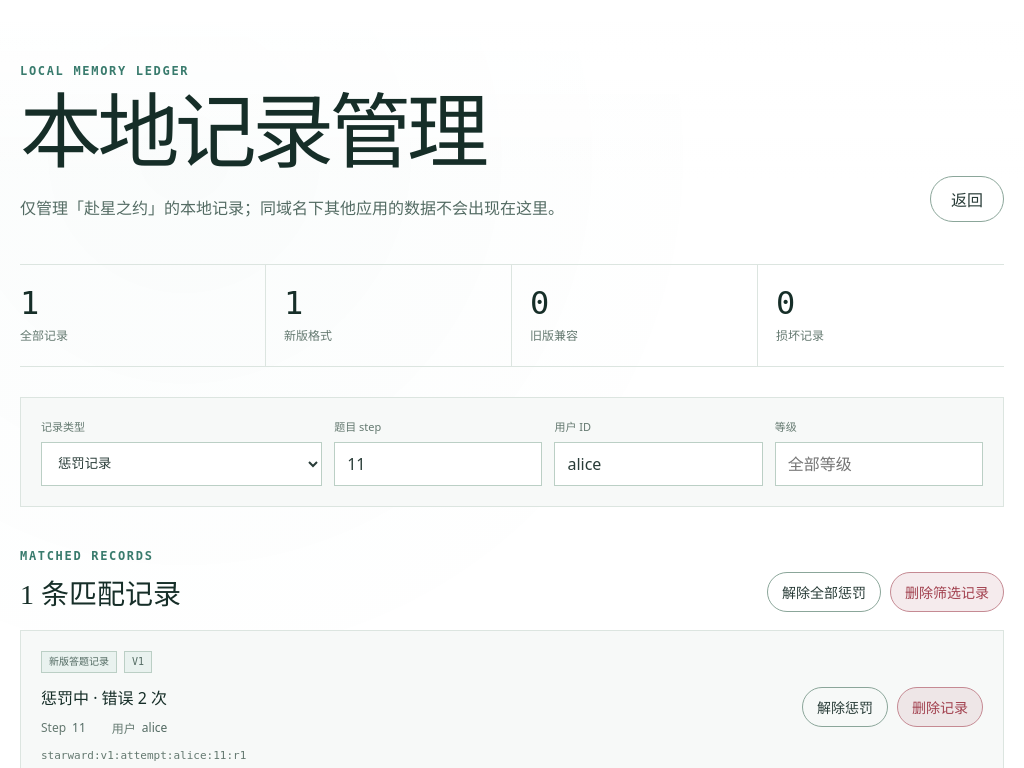
it: ClearCachePage › honors legacy penalty query filters and clears only the penalty
Check: the heading "惩罚中 · 错误 2 次" is shown, box [41, 687, 167, 709]
Click the button "解除惩罚" at (845, 707), box [802, 687, 888, 727]
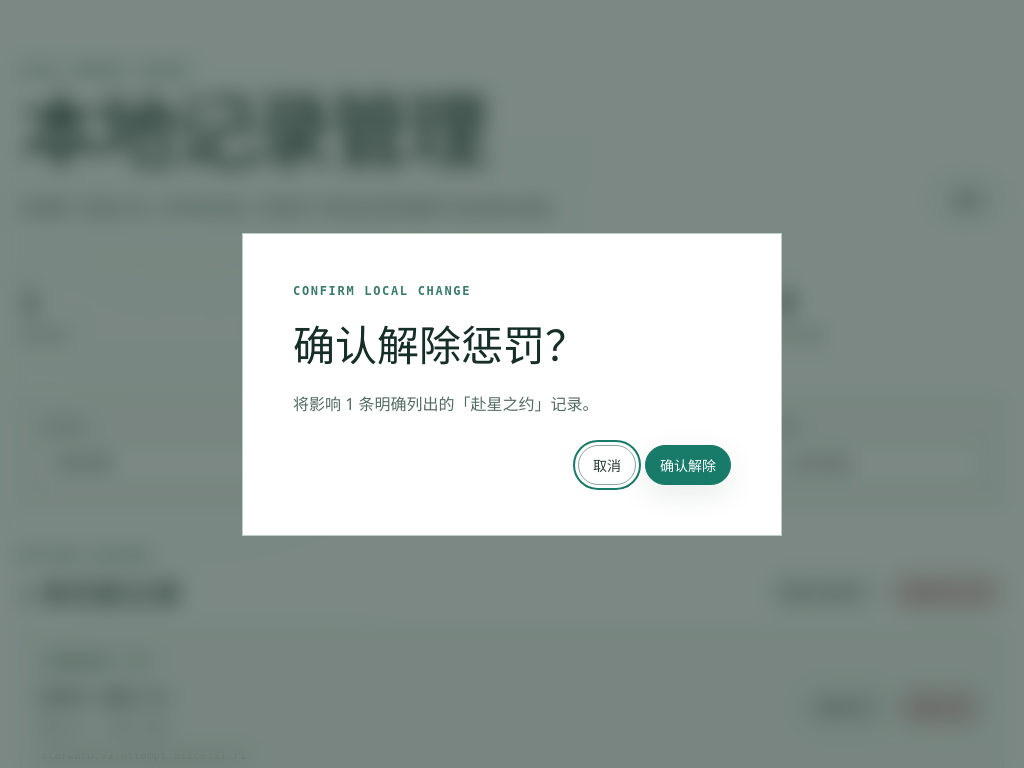
Click the button "确认解除" at (688, 464), box [645, 444, 731, 484]
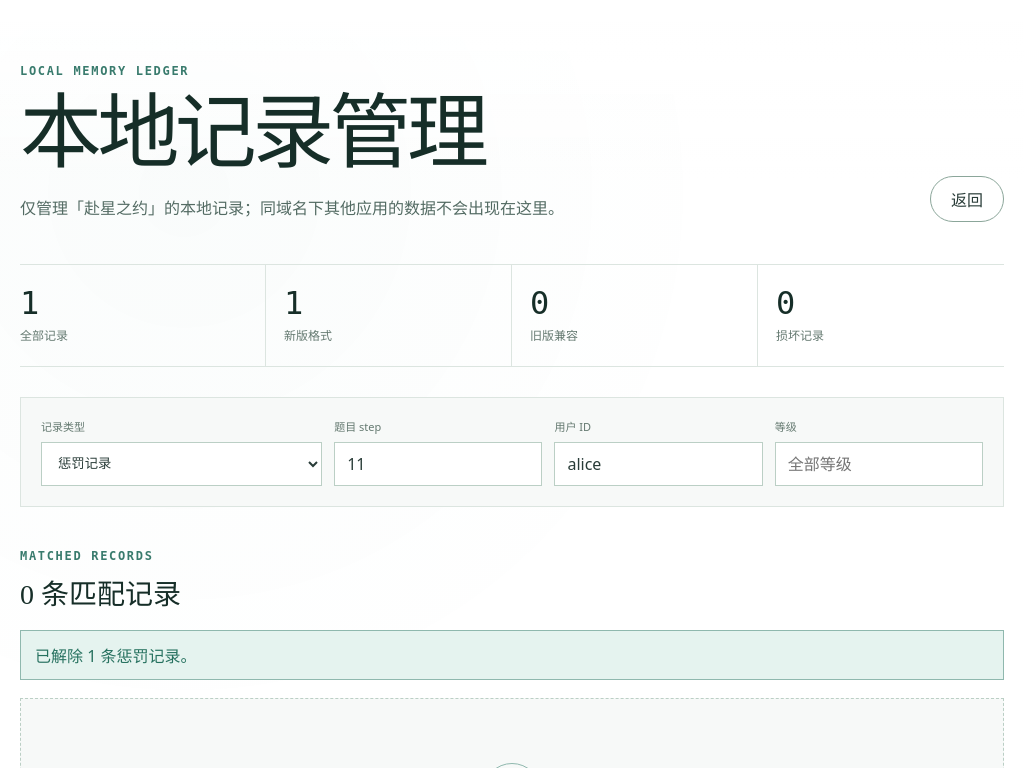
Check: the message shows "已解除 1 条惩罚记录", box [35, 645, 196, 667]
